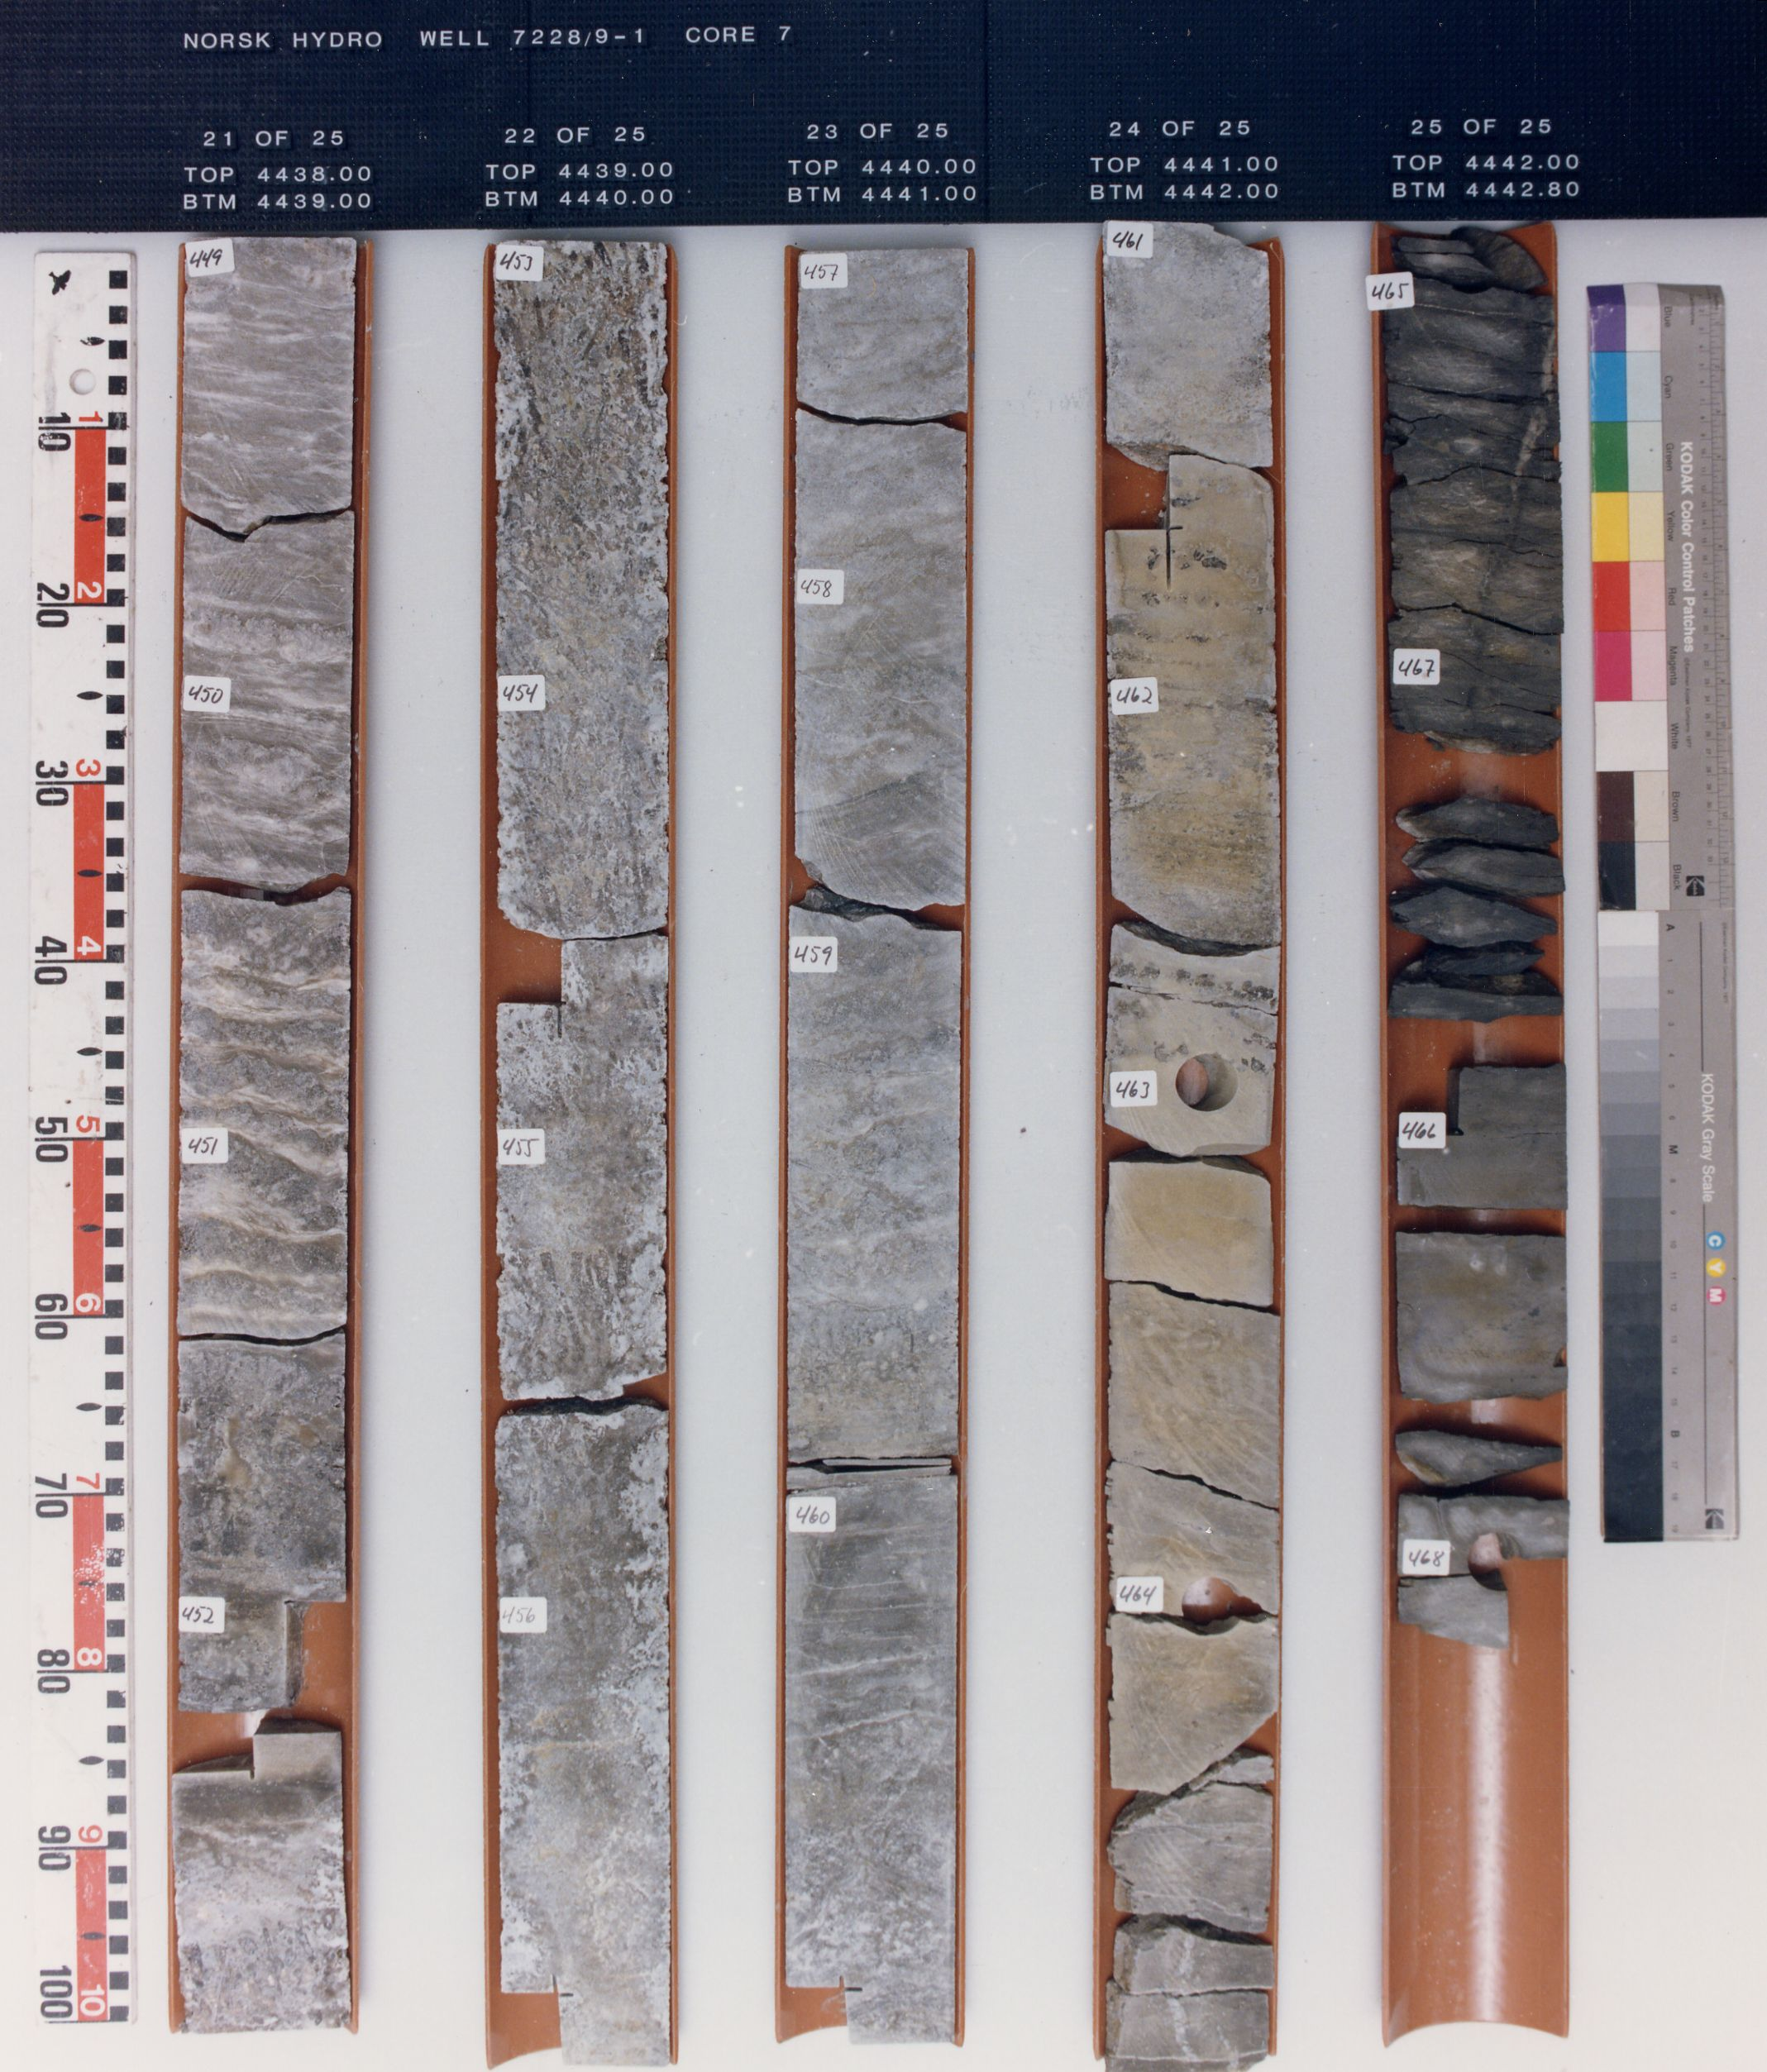core: (1097, 224, 1283, 2072), (493, 240, 677, 2070), (182, 237, 356, 2032), (792, 247, 964, 2044), (1387, 1061, 1569, 1650), (1378, 226, 1562, 757), (1387, 792, 1562, 1024)
